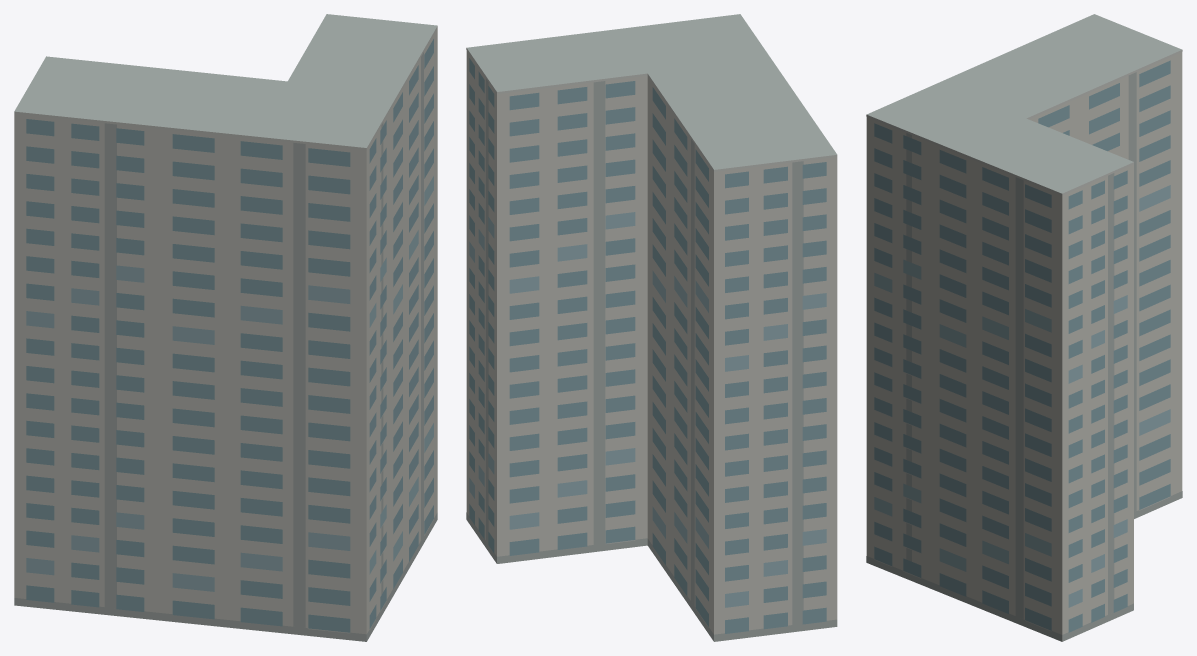
The model's file is residential-a2c2fe15-4fbd-4a6b-a7f9-deb4a82c3f68.glb.
3 renders of one model, left to right at view 1: azimuth 30°, elevation 25°; view 2: azimuth 150°, elevation 25°; view 3: azimuth 270°, elevation 25°, orthographic. The views are drawn at different scales.
Parts seen in each view (by area): view 1: residential-a2c2fe15-4fbd-4a6b-a7f9-deb4a82c3f68.tmp; view 2: residential-a2c2fe15-4fbd-4a6b-a7f9-deb4a82c3f68.tmp; view 3: residential-a2c2fe15-4fbd-4a6b-a7f9-deb4a82c3f68.tmp.
Part boxes in pixels (x1,y1,x2,y2): residential-a2c2fe15-4fbd-4a6b-a7f9-deb4a82c3f68.tmp: [14, 14, 437, 641]; residential-a2c2fe15-4fbd-4a6b-a7f9-deb4a82c3f68.tmp: [466, 14, 837, 641]; residential-a2c2fe15-4fbd-4a6b-a7f9-deb4a82c3f68.tmp: [866, 14, 1182, 641].
Size of the model in its own units: 44.72 by 52 by 33.23.
